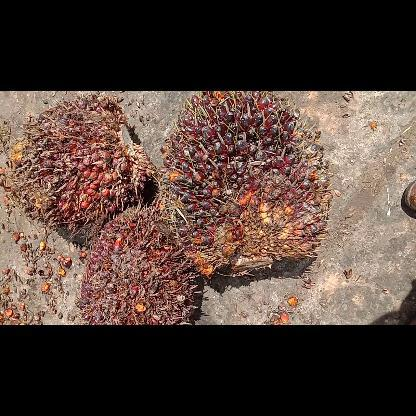Kurang masak: (2, 99, 152, 229)
TBS masak: (158, 92, 330, 280), (78, 207, 204, 324)
